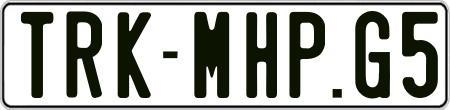5: (400, 9, 433, 98)
G: (354, 11, 393, 100)
H: (245, 9, 280, 96)
K: (115, 11, 149, 97)
M: (194, 9, 232, 99)
P: (290, 12, 325, 101)
R: (66, 9, 103, 100)
T: (20, 10, 56, 102)
